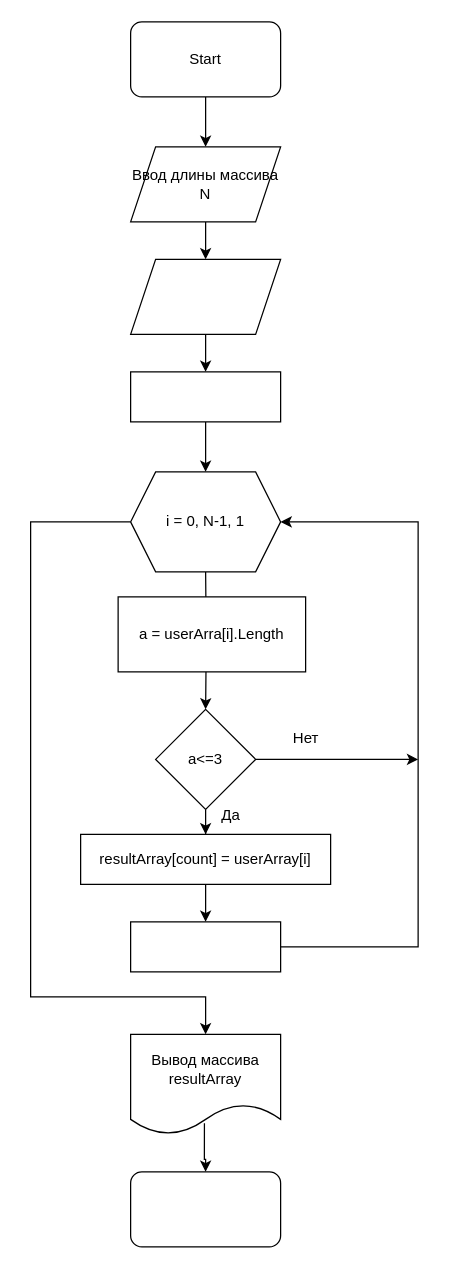
This 450x1269 diagram has some shape labels left out. The shapes that lost their labels are listed below. From the top down, each one's centre as x and y in pixels, then its label:
At point 205,296: "Ввод массива userArray".
At point 205,396: "count = 0".
At point 205,946: "count = count + 1".
At point 205,1209: "End".
